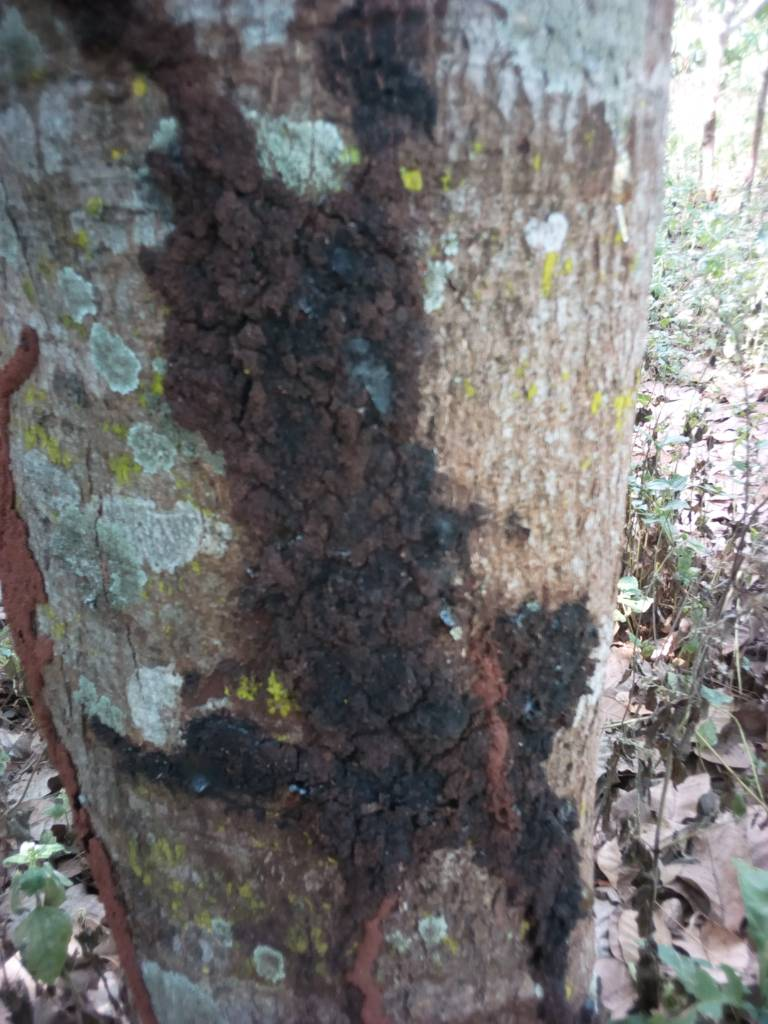Termites: (165, 97, 586, 1003)
